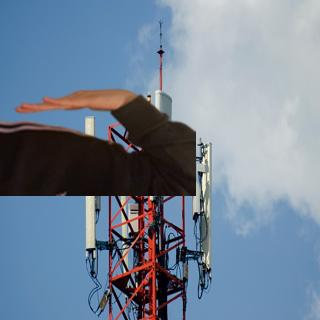WAIT: (11, 82, 137, 119)
